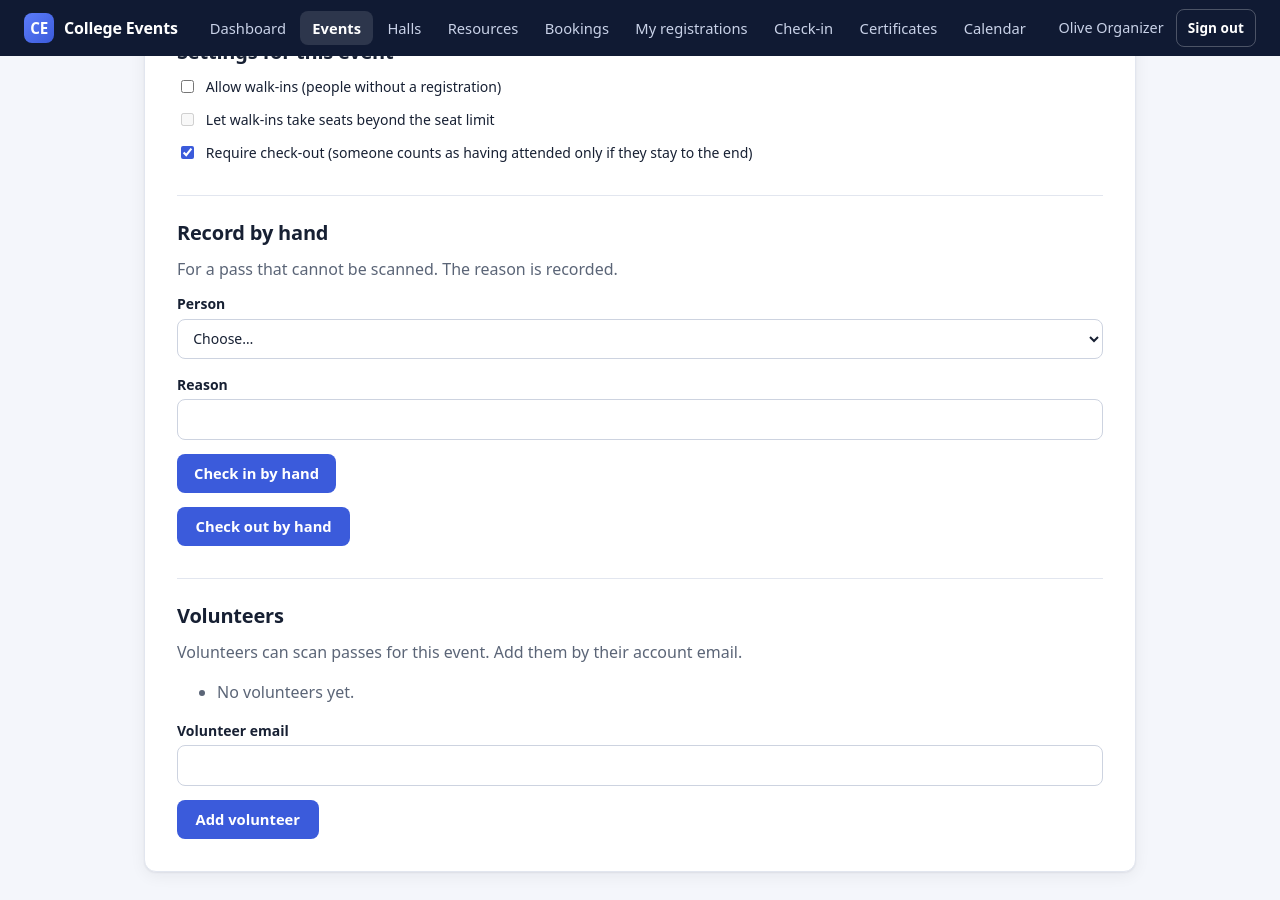
manual check-in and volunteers › adds and removes volunteers
The image size is (1280, 900).
(page scrolled)
In the field labelled "Volunteer email": (640, 766) [177, 745, 1103, 786], type "vik@college.test"
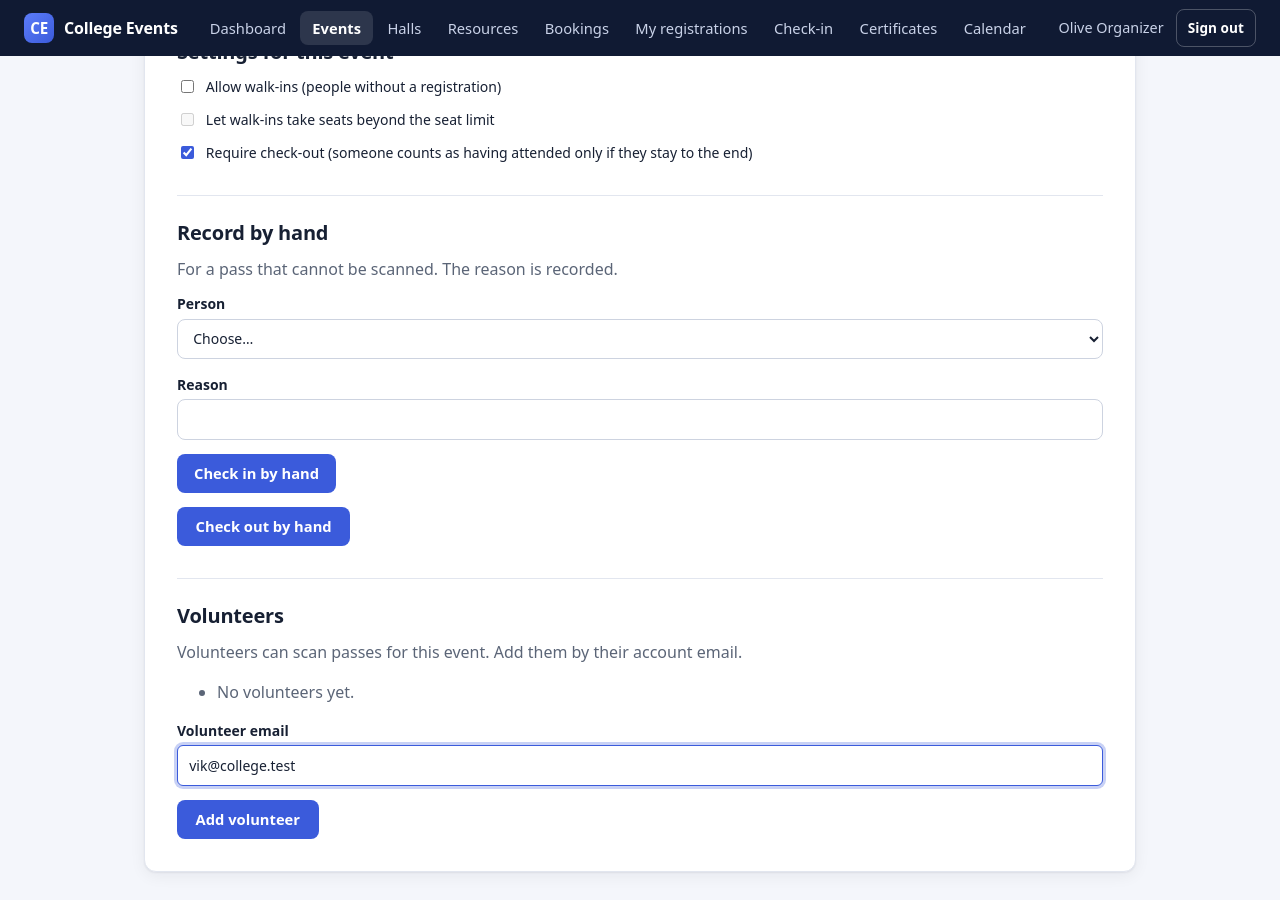
Click the button "Add volunteer": (248, 820) [177, 800, 319, 839]
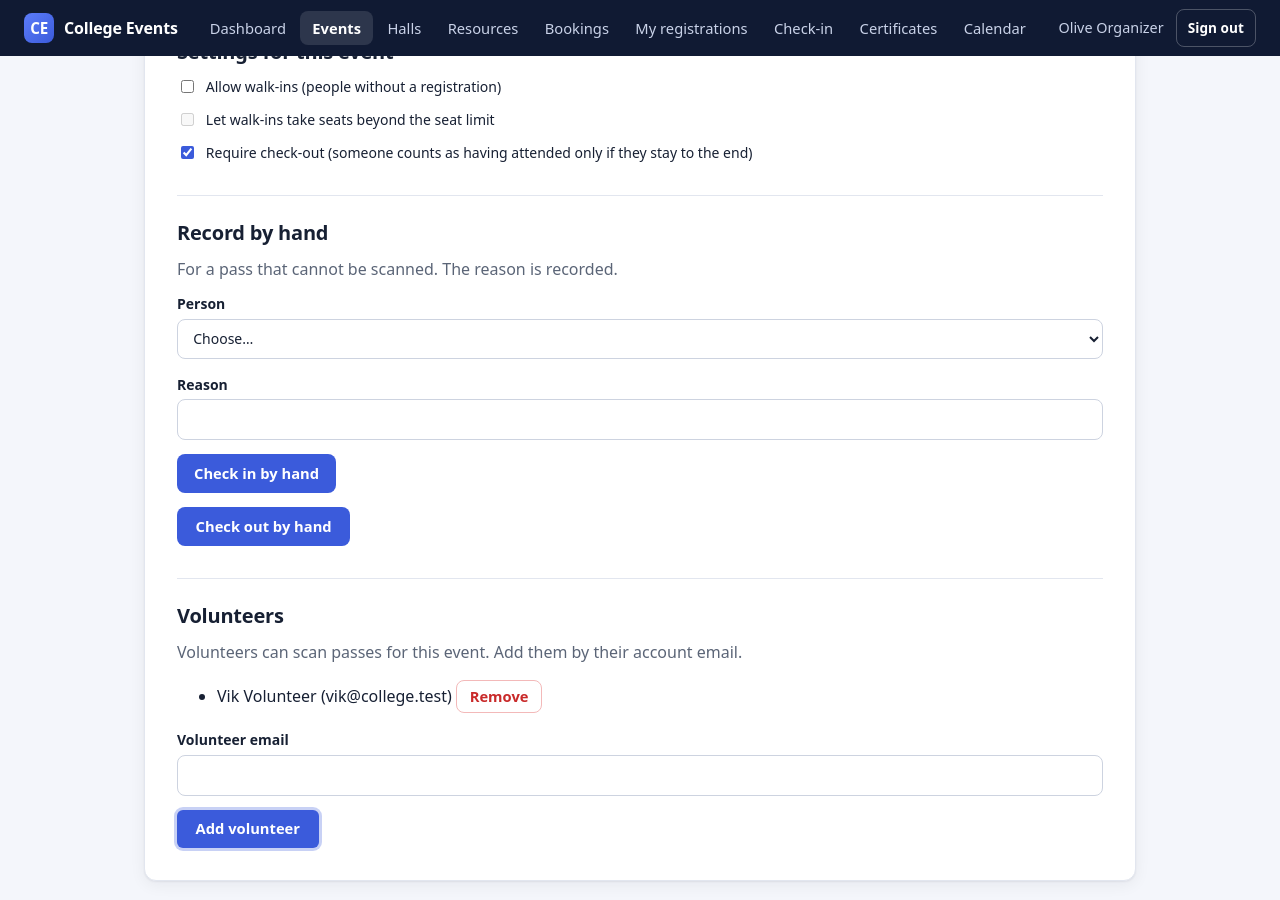
expect the list item "Vik Volunteer (vik@college.test) Remove" is shown: met, box [217, 680, 542, 713]
Click the button with aria-label "Remove Vik Volunteer": (499, 696) [456, 680, 542, 713]
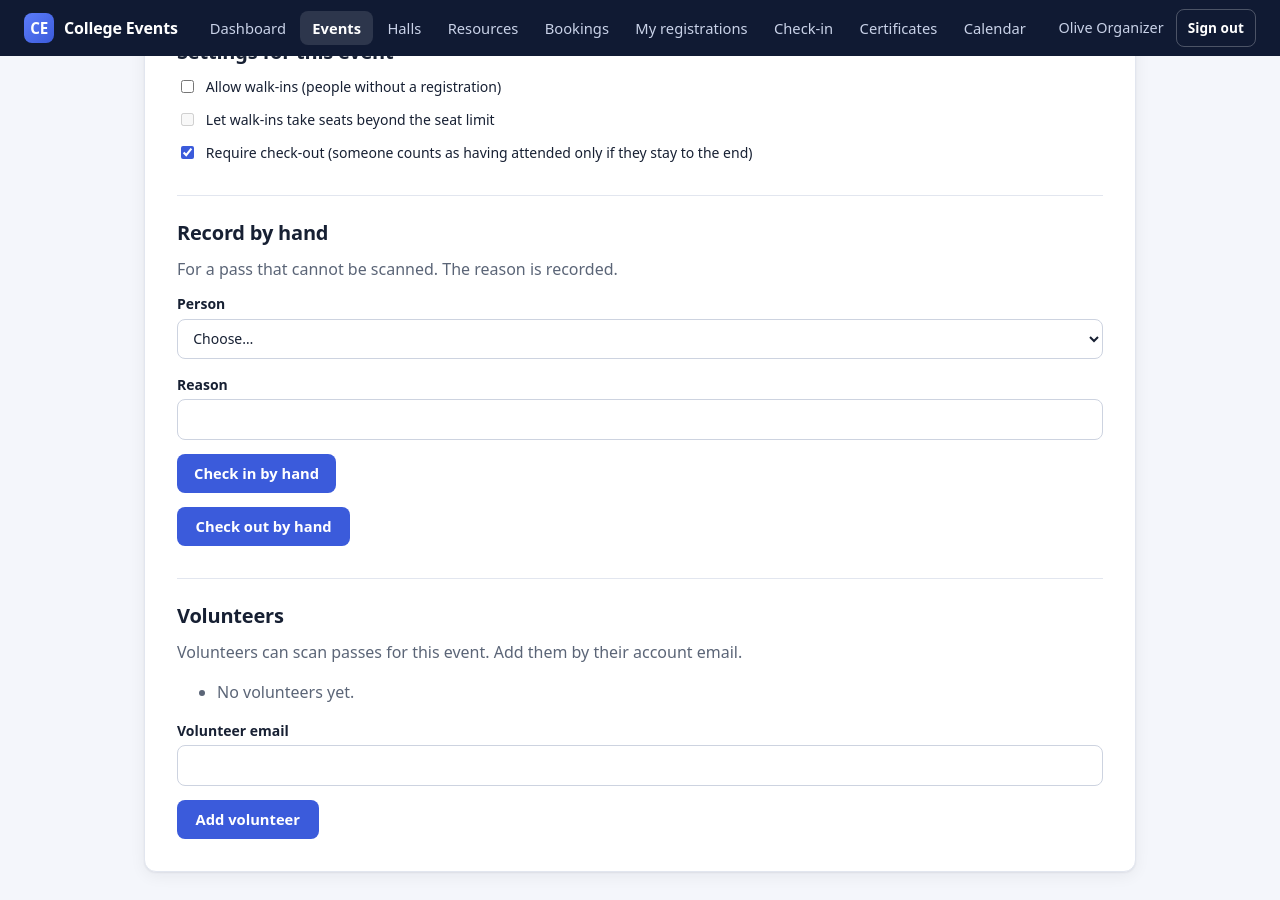
expect the list item "No volunteers yet." is shown: met, box [217, 681, 354, 703]
